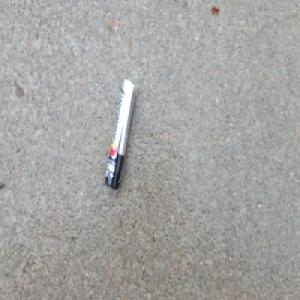Battery: (104, 77, 136, 190)
